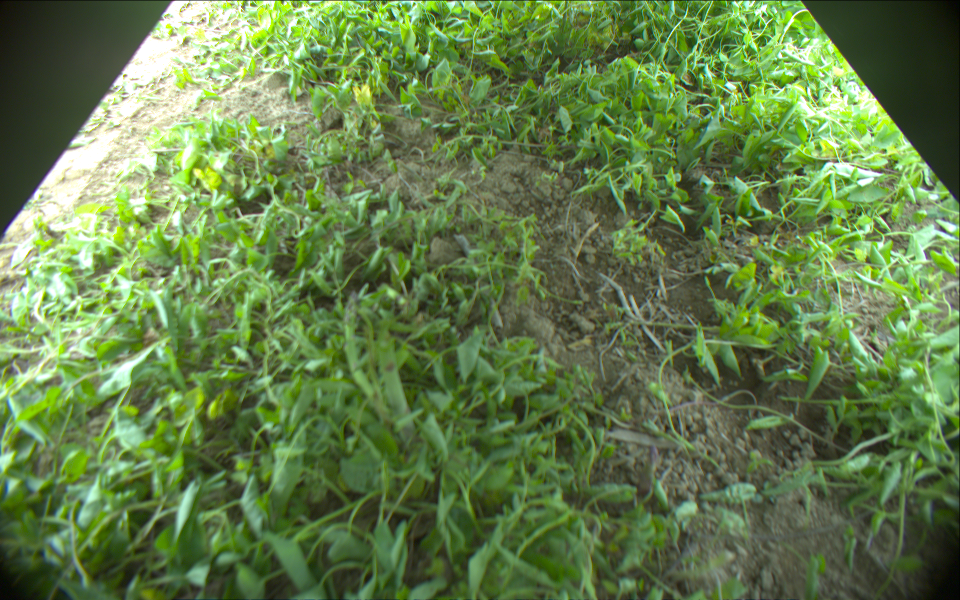aspa: (379, 344, 417, 443), (344, 290, 376, 402)
